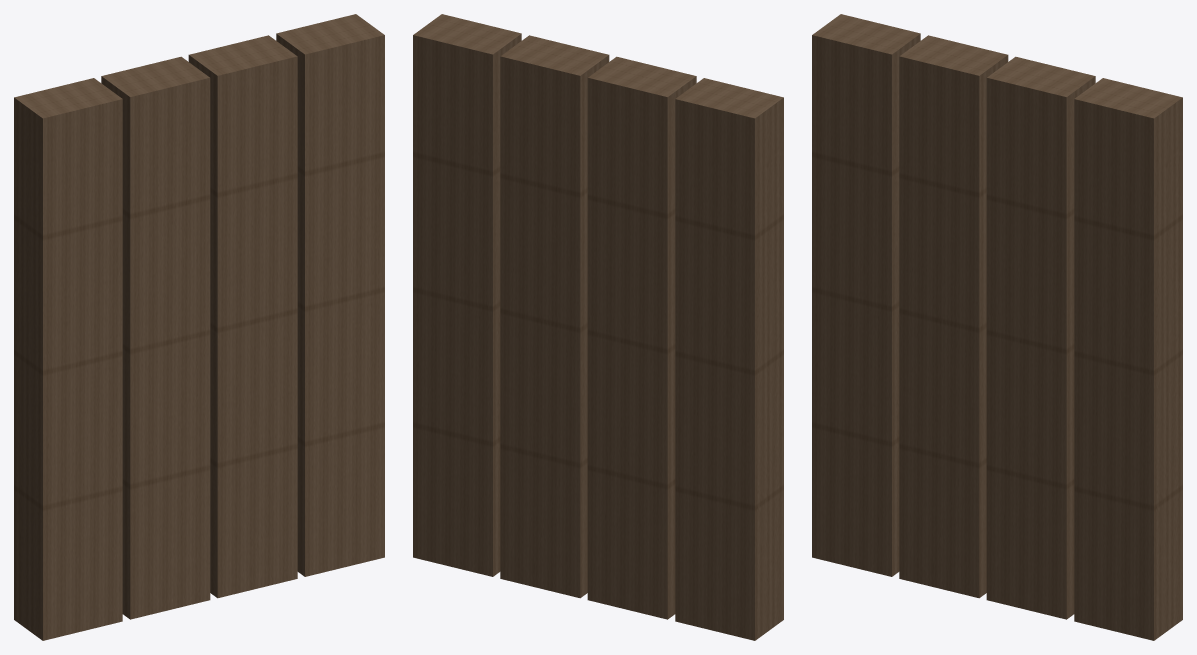
The model's file is shutter.glb.
The picture shows the model from 3 angles, left to right: view 1: azimuth 30°, elevation 25°; view 2: azimuth 150°, elevation 25°; view 3: azimuth 330°, elevation 25°; orthographic projection.
Visible parts, largest first — view 1: shutter; view 2: shutter; view 3: shutter.
Boxes of the visible parts, <box> form: shutter: <box>14,14,384,640</box>; shutter: <box>413,14,783,640</box>; shutter: <box>812,14,1182,640</box>.
Bounding box in the file's own units: 0.685 × 1 × 0.1.
Materials: 1 (1 with a texture image).
